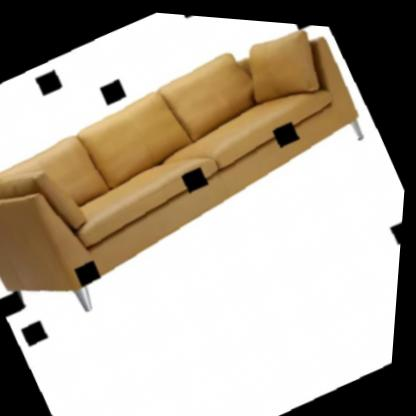Sofa: (0, 0, 390, 333)
